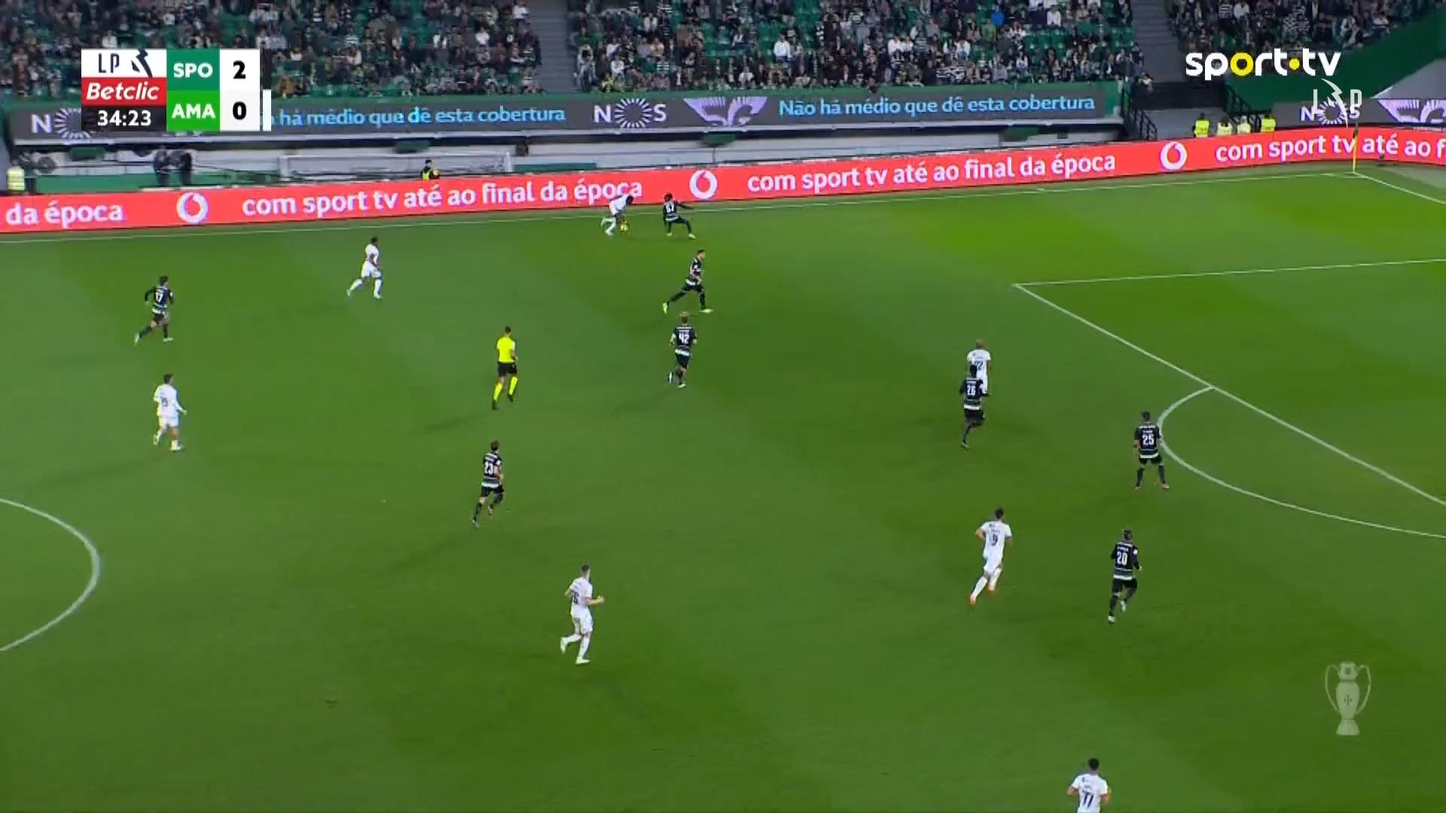ball: (619, 221, 629, 233)
player: (558, 562, 605, 664), (968, 507, 1012, 607), (661, 248, 713, 315), (1106, 528, 1142, 624), (1131, 410, 1170, 490), (133, 274, 175, 346), (471, 440, 505, 528), (151, 372, 187, 452), (345, 236, 384, 300), (1066, 757, 1111, 811), (958, 366, 987, 449), (666, 312, 697, 388), (661, 191, 695, 239), (599, 190, 633, 236), (966, 338, 992, 396)
referee: (490, 324, 519, 410)
